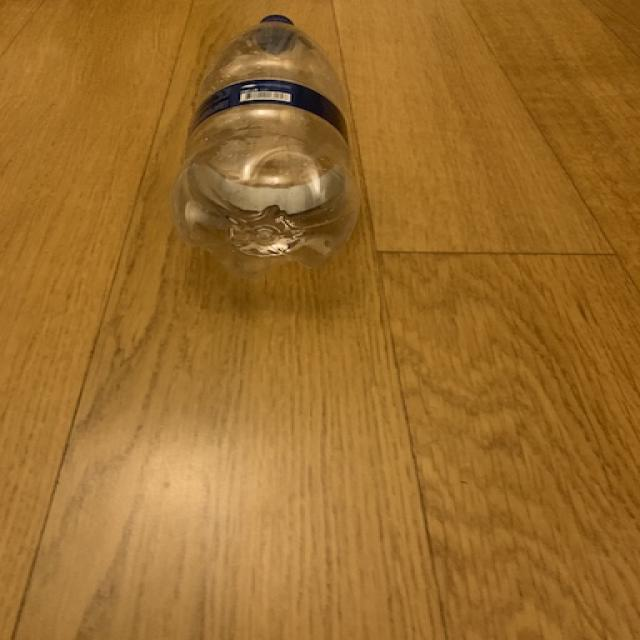Waste: (173, 15, 360, 276)
